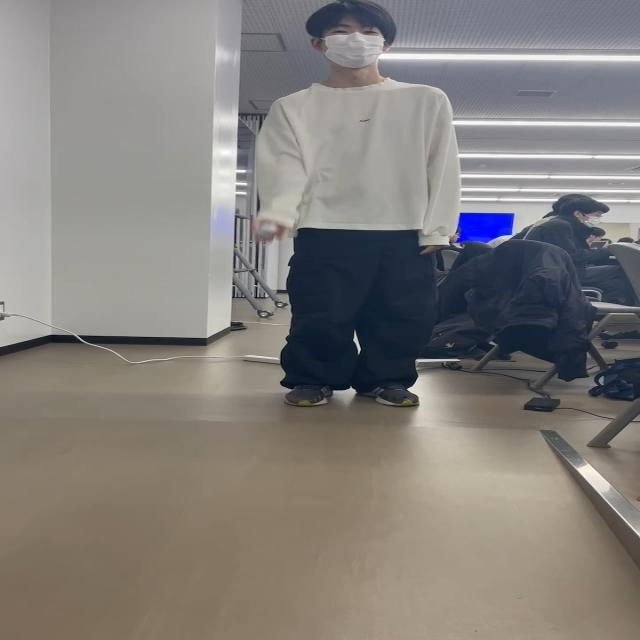paper: (253, 222, 281, 240)
